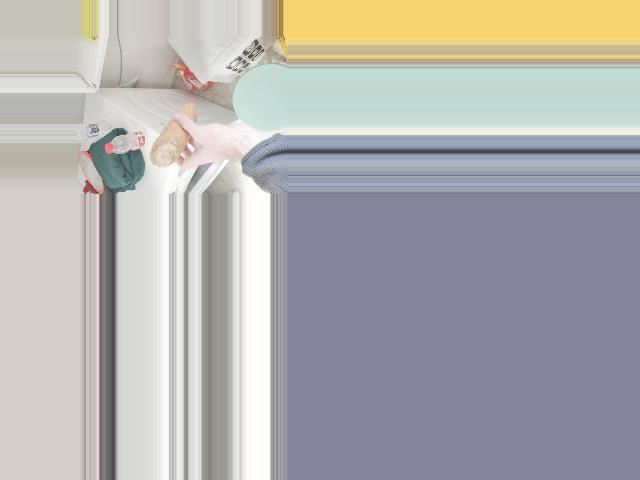sweet_potato: (149, 101, 194, 166)
